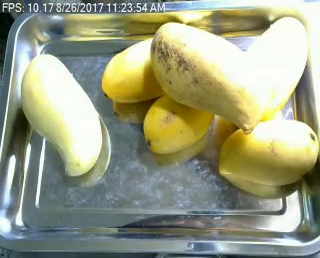Mango: (150, 20, 263, 129), (19, 54, 101, 175), (219, 120, 318, 187), (244, 15, 307, 120), (138, 95, 216, 153), (101, 36, 169, 101)
